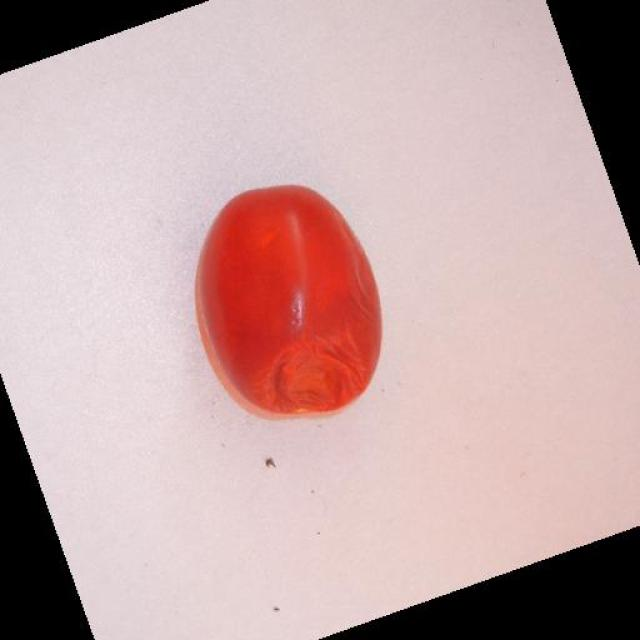Stale_tomato: (207, 289, 366, 416)
